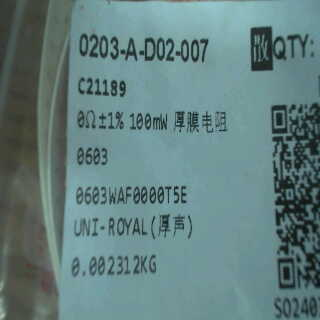0R: (76, 107, 170, 169)
